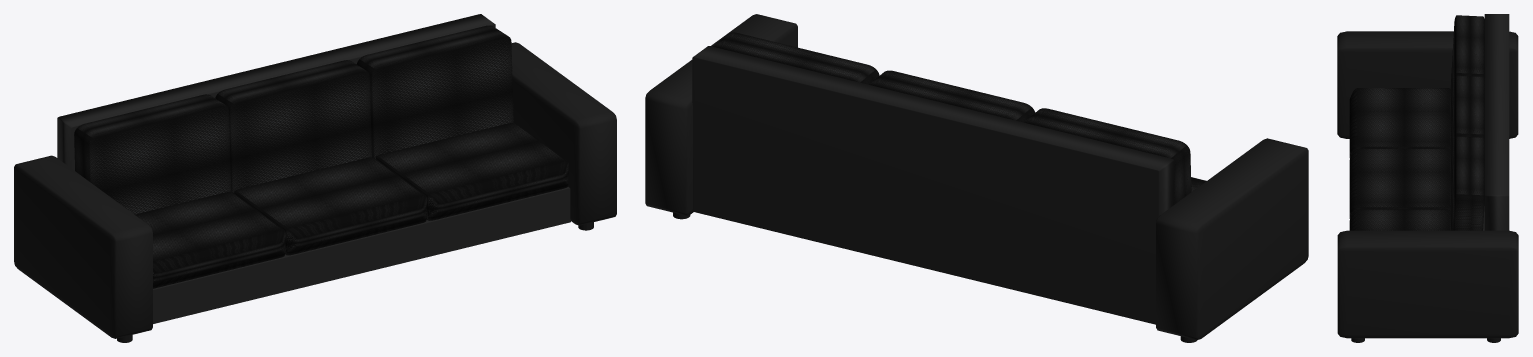
Rendered from BigSofa.glb.
The picture shows the model from 3 angles, left to right: view 1: azimuth 30°, elevation 25°; view 2: azimuth 150°, elevation 25°; view 3: azimuth 270°, elevation 25°; orthographic projection. The views are drawn at different scales.
Parts seen in each view (by area): view 1: Cube.002, Cube.006, Cube.004, Cube.007, Cube.005, Cube.008, Cube.003, Cube.001, Cube.011, Cube; view 2: Cube, Cube.002, Cube.001, Cube.005, Cube.004, Cube.007; view 3: Cube.001, Cube.002, Cube.003, Cube.011, Cube, Cube.004, Cube.008, Cube.007, Cube.005.
Boxes of the visible parts, box(x1,y1,x2,y2) form: Cube.002: box(14, 155, 152, 338); Cube.006: box(153, 187, 570, 323); Cube.004: box(356, 25, 513, 158); Cube.007: box(215, 60, 371, 192); Cube.005: box(74, 94, 231, 214); Cube.008: box(376, 122, 568, 220); Cube.003: box(234, 157, 426, 255); Cube.001: box(511, 42, 616, 225); Cube.011: box(135, 191, 285, 288); Cube: box(57, 14, 495, 170); Cube: box(692, 46, 1174, 324); Cube.002: box(1156, 138, 1308, 339); Cube.001: box(645, 14, 797, 215); Cube.005: box(1024, 108, 1191, 204); Cube.004: box(713, 32, 879, 84); Cube.007: box(869, 70, 1035, 122); Cube.001: box(1337, 230, 1518, 338); Cube.002: box(1337, 31, 1518, 138); Cube.003: box(1349, 148, 1450, 219); Cube.011: box(1349, 88, 1450, 158); Cube: box(1484, 14, 1509, 230); Cube.004: box(1450, 136, 1484, 230); Cube.008: box(1349, 209, 1450, 230); Cube.007: box(1450, 75, 1484, 205); Cube.005: box(1450, 15, 1484, 145).
Bounding box in the file's own units: 2.77 × 0.8294 × 0.9815.
4 materials, 1 textured.
